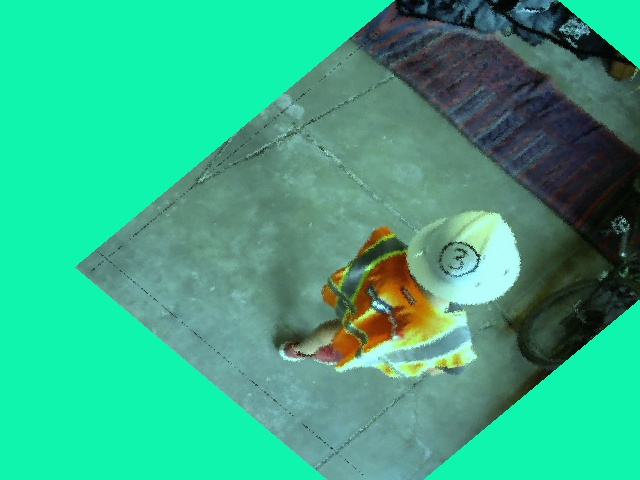three: (428, 234, 486, 282)
